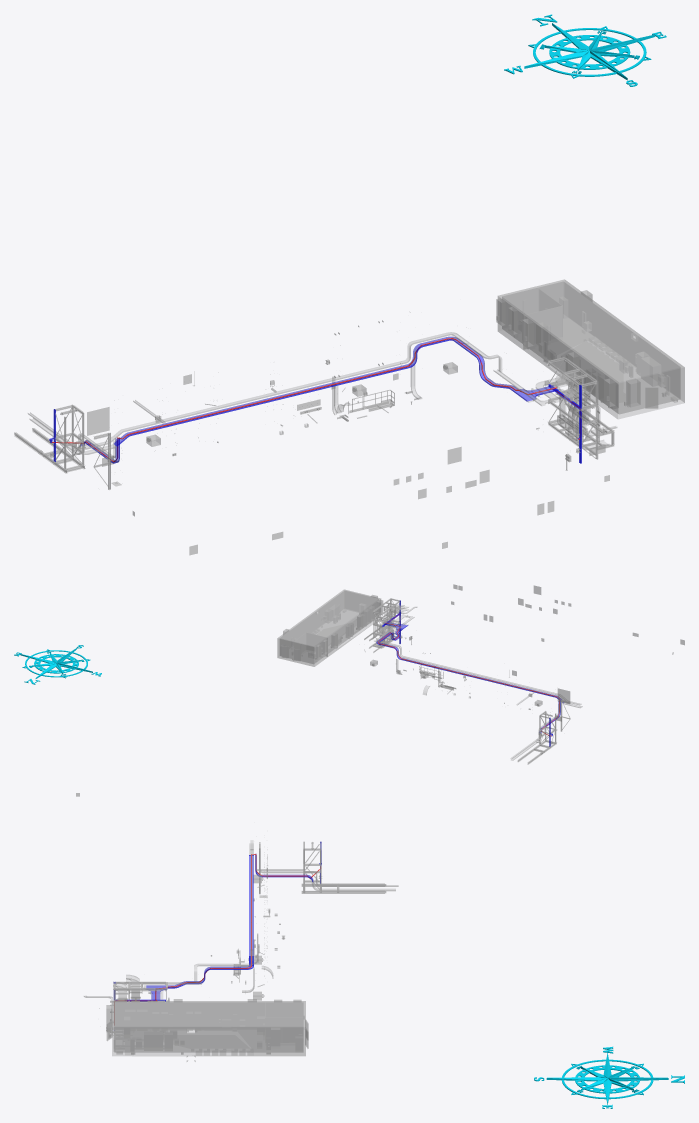
Rendered from mini_model.glb.
3 renders of one model, top to bottom at view 1: azimuth 30°, elevation 25°; view 2: azimuth 150°, elevation 25°; view 3: azimuth 270°, elevation 25°, orthographic. The views are drawn at different scales.
Visible parts, largest first — view 1: IfcBuildingElementProxy/None.31886, Compass, IfcBuildingElementProxy/None.32185, SelectedCableRoute, IfcBuildingElementProxy/None.31671, IfcBuildingElementProxy/None.32328; view 2: IfcBuildingElementProxy/None.31886, Compass, IfcBuildingElementProxy/None.32185, SelectedCableRoute, IfcBuildingElementProxy/None.31671, IfcBuildingElementProxy/None.32328; view 3: IfcBuildingElementProxy/None.31886, Compass, SelectedCableRoute.
Part boxes in pixels (box(x1,y1,x2,y2)): IfcBuildingElementProxy/None.31886: box(496, 279, 684, 418); Compass: box(504, 14, 666, 86); IfcBuildingElementProxy/None.32185: box(87, 373, 609, 555); SelectedCableRoute: box(52, 338, 580, 461); IfcBuildingElementProxy/None.31671: box(122, 361, 406, 431); IfcBuildingElementProxy/None.32328: box(128, 382, 336, 435); IfcBuildingElementProxy/None.31886: box(277, 589, 383, 666); Compass: box(14, 645, 101, 684); IfcBuildingElementProxy/None.32185: box(397, 584, 684, 721); SelectedCableRoute: box(378, 614, 560, 736); IfcBuildingElementProxy/None.31671: box(402, 656, 558, 695); IfcBuildingElementProxy/None.32328: box(441, 668, 556, 697); IfcBuildingElementProxy/None.31886: box(106, 999, 308, 1056); Compass: box(534, 1046, 684, 1108); SelectedCableRoute: box(114, 854, 320, 1024).
Size of what is drawn, in the model's own units: 91.65 by 11.54 by 76.87.
